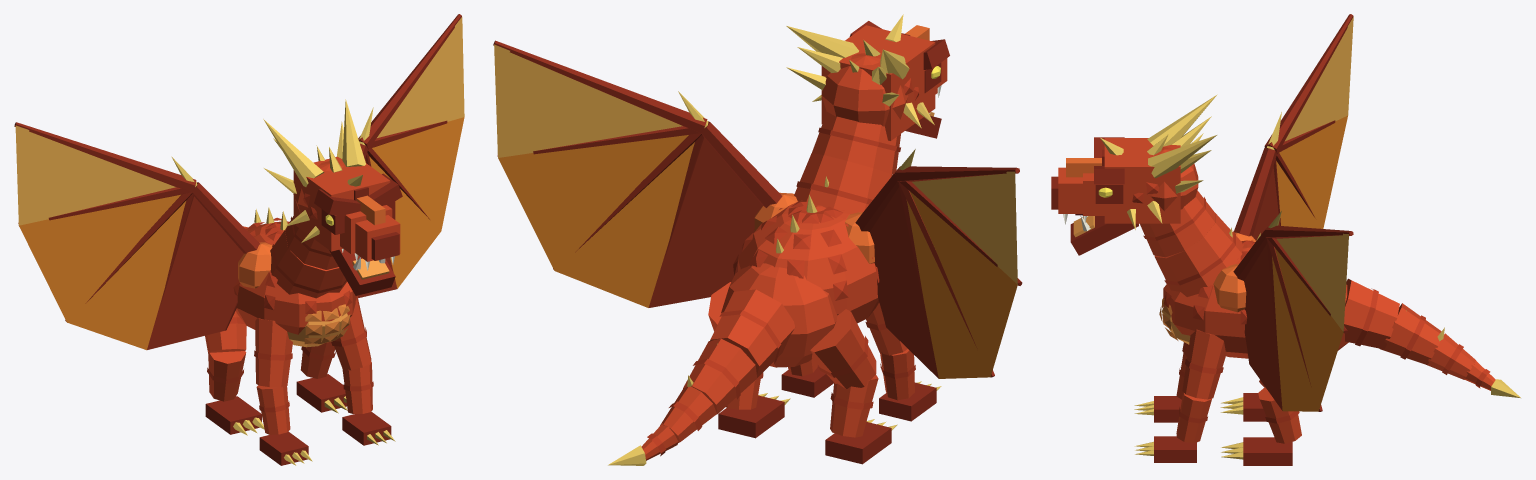
The model's file is dragon.glb.
The picture shows the model from 3 angles, left to right: view 1: azimuth 30°, elevation 25°; view 2: azimuth 150°, elevation 25°; view 3: azimuth 270°, elevation 25°; orthographic projection. The views are drawn at different scales.
Visible parts, largest first — view 1: dragon; view 2: dragon; view 3: dragon.
Boxes of the visible parts, x1,y1,x2,y2 form: dragon: [14, 14, 464, 465]; dragon: [493, 14, 1022, 465]; dragon: [1051, 14, 1520, 465].
Size of the model in its own units: 1.62 by 1.11 by 1.47.
